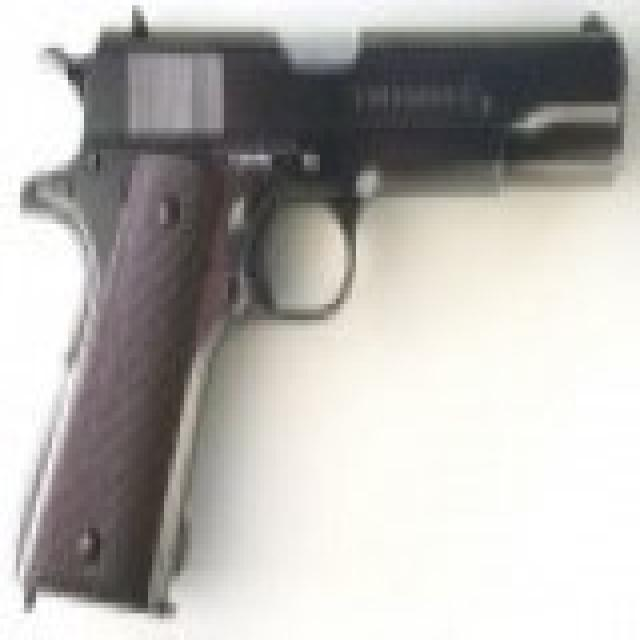Gun: (21, 10, 623, 625)
